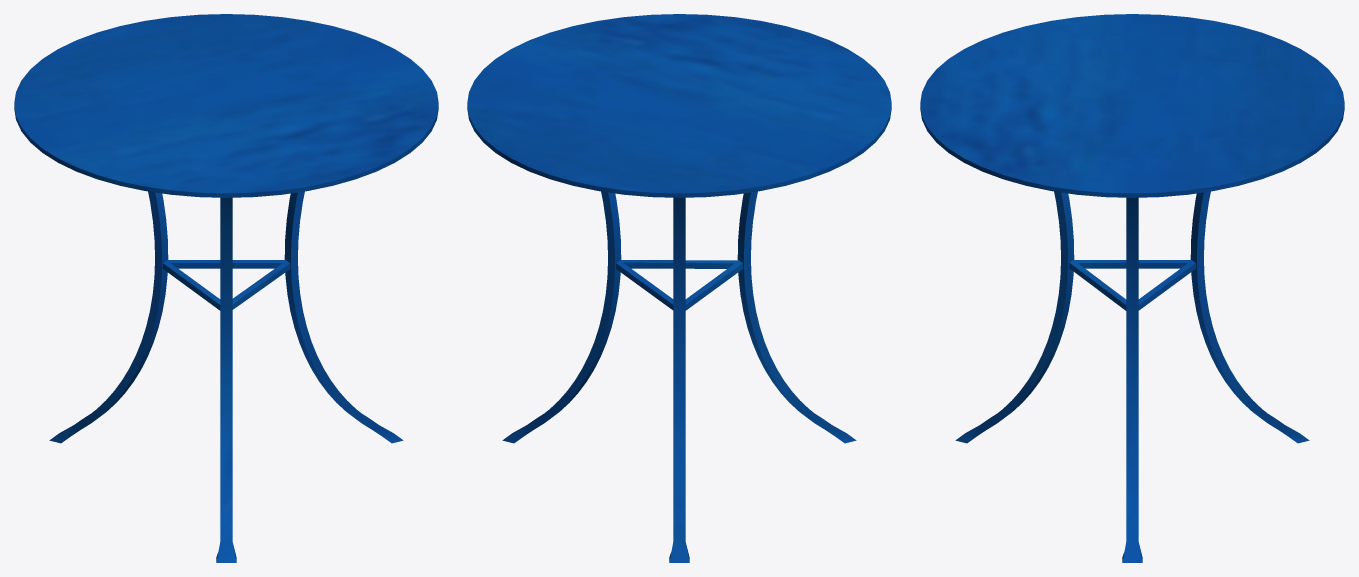
Rendered from table.obj.
The picture shows the model from 3 angles, left to right: view 1: azimuth 30°, elevation 25°; view 2: azimuth 150°, elevation 25°; view 3: azimuth 270°, elevation 25°; orthographic projection.
Visible parts, largest first — view 1: table; view 2: table; view 3: table.
Part boxes in pixels (x1,y1,x2,y2): table: (14, 14, 438, 562); table: (467, 14, 891, 562); table: (920, 14, 1344, 562).
Bounding box in the file's own units: 26 × 25.35 × 26.
